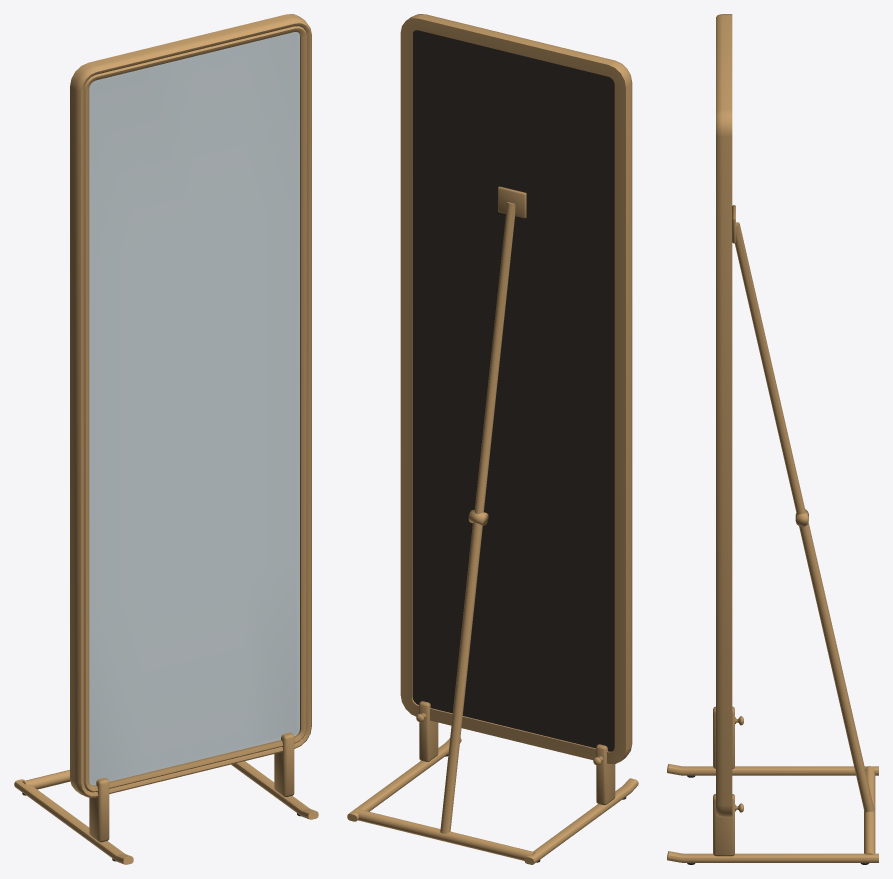
File: mirrorFloor.glb
3 views of the same model, side by side, from view 1: azimuth 30°, elevation 25°; view 2: azimuth 150°, elevation 25°; view 3: azimuth 270°, elevation 25° (orthographic). The views are drawn at different scales.
Parts seen in each view (by area): view 1: mirrorFloor; view 2: mirrorFloor; view 3: mirrorFloor.
Boxes of the visible parts, <box> form: mirrorFloor: <box>14,14,318,864</box>; mirrorFloor: <box>347,14,638,864</box>; mirrorFloor: <box>667,14,878,864</box>.
Size of the model in its own units: 0.56 by 1.78 by 0.4516.
